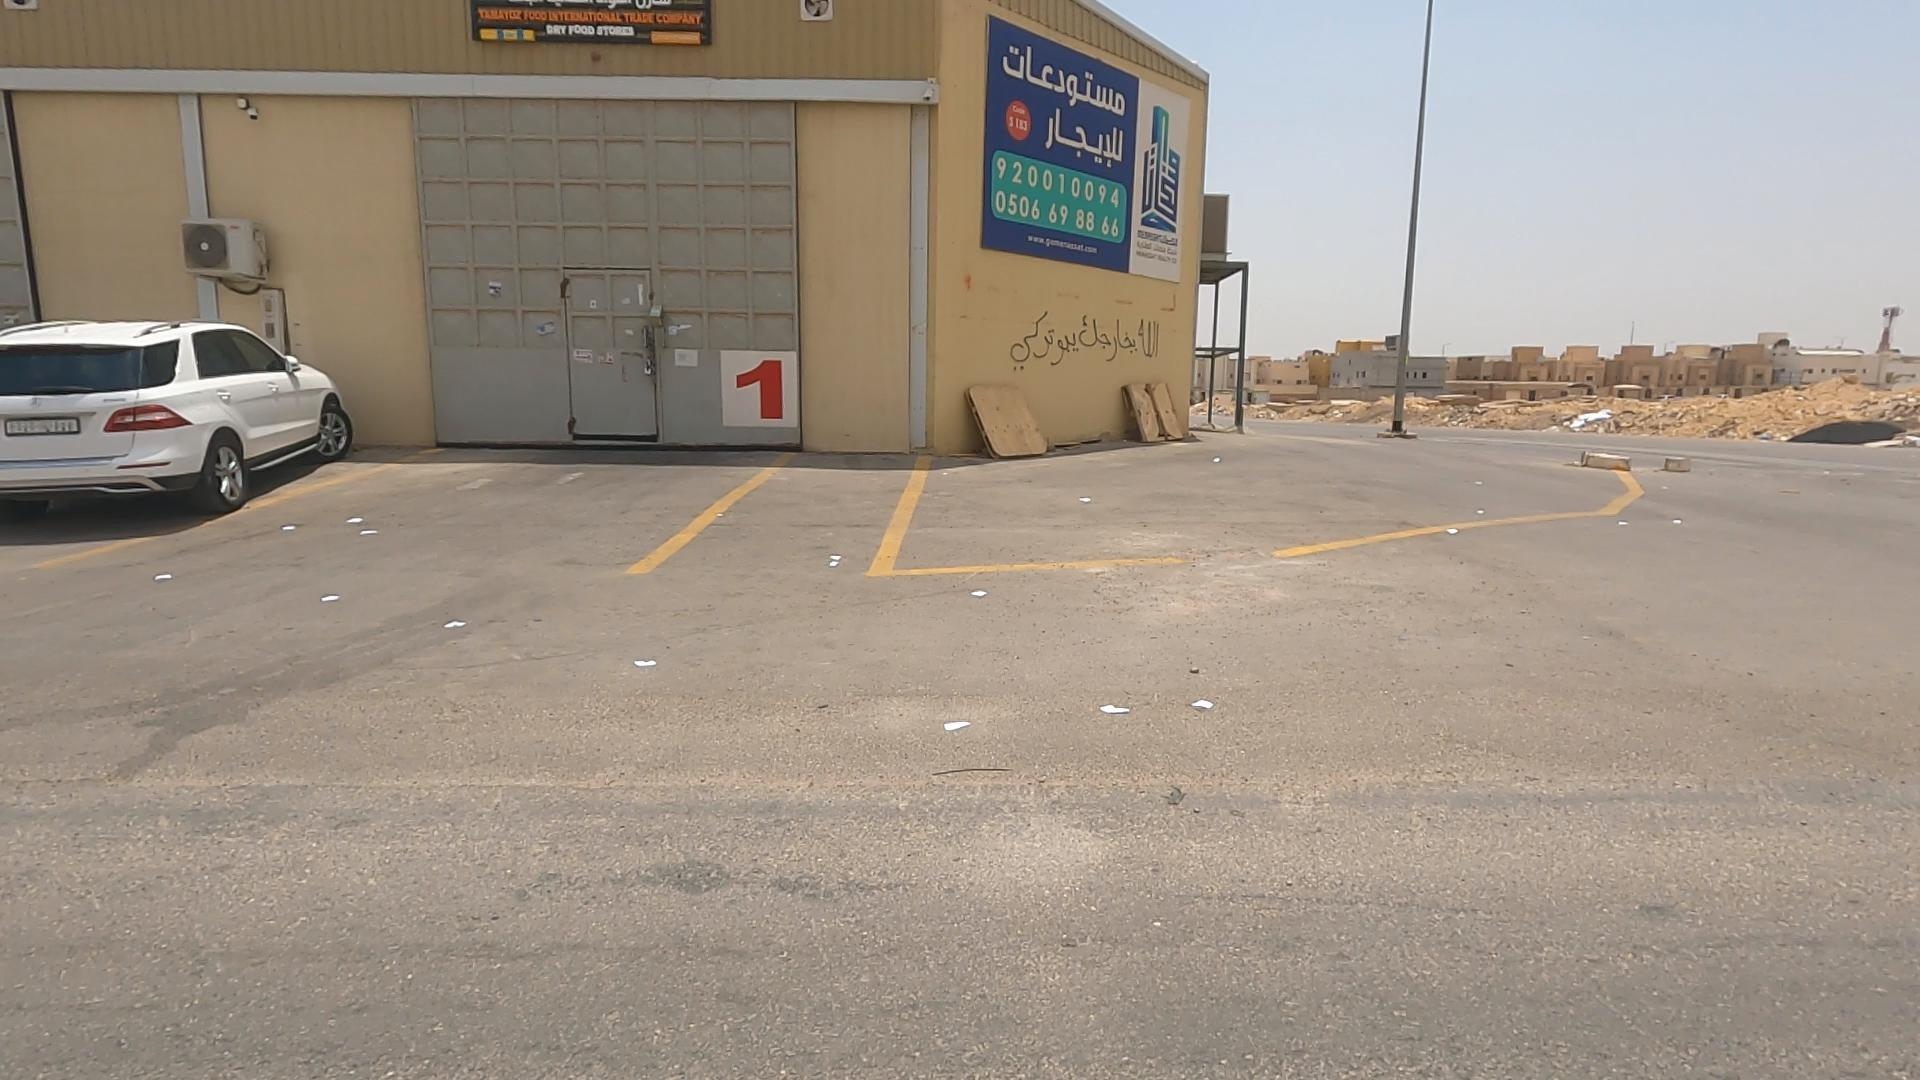GRAFFITI: (833, 246, 1324, 450)
